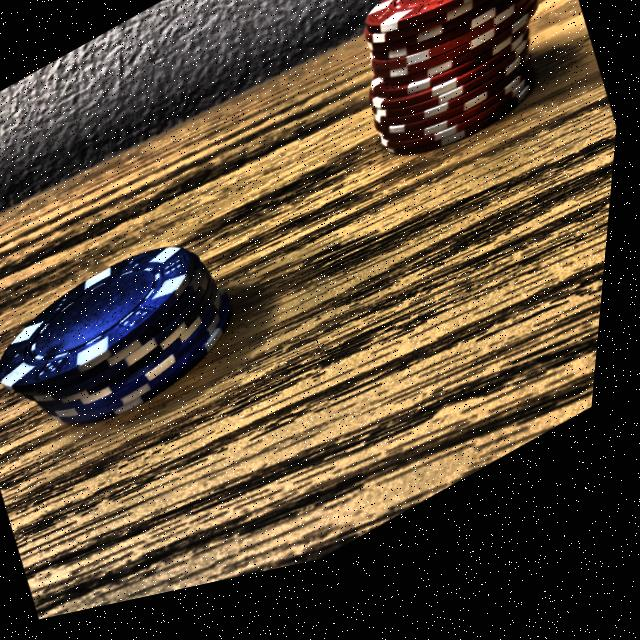Chip: (0, 181, 288, 507), (313, 0, 606, 230)
